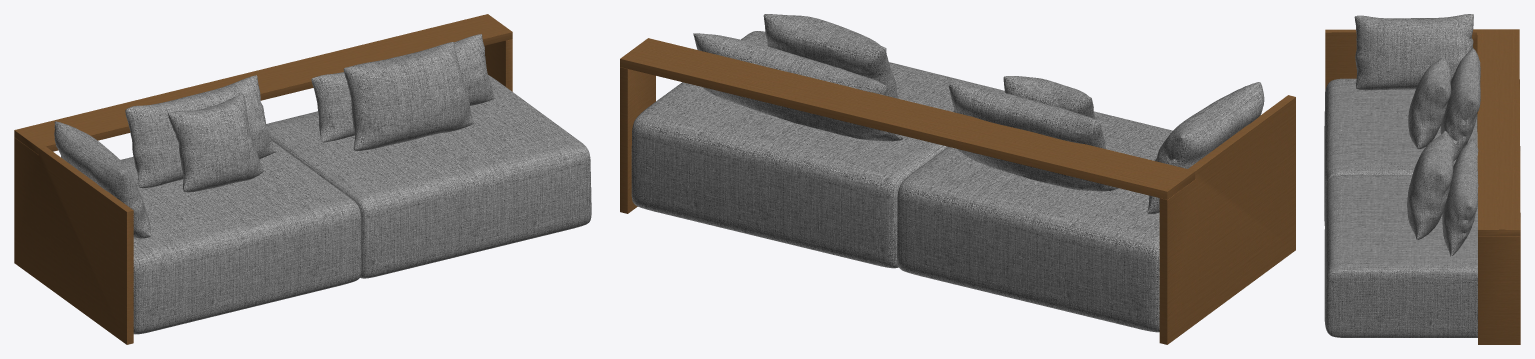
3 views of the same model, side by side, from view 1: azimuth 30°, elevation 25°; view 2: azimuth 150°, elevation 25°; view 3: azimuth 270°, elevation 25° (orthographic). The views are drawn at different scales.
Parts seen in each view (by area): view 1: C-skp39AC; view 2: C-skp39AC; view 3: C-skp39AC.
Boxes of the visible parts, left/top/right/bottom form: C-skp39AC: left=14, top=14, right=591, bottom=344; C-skp39AC: left=620, top=14, right=1295, bottom=344; C-skp39AC: left=1324, top=14, right=1520, bottom=344.
Bounding box in the file's own units: 2.1 × 0.67 × 0.87.
Materials: 3 (2 with a texture image).
